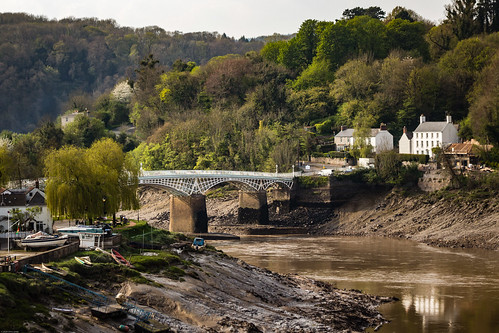bridge: (76, 156, 311, 226)
building: (401, 121, 456, 158), (335, 123, 389, 156)
river: (168, 214, 499, 333)
tree: (49, 141, 136, 234)
vegetation: (86, 18, 499, 148)
